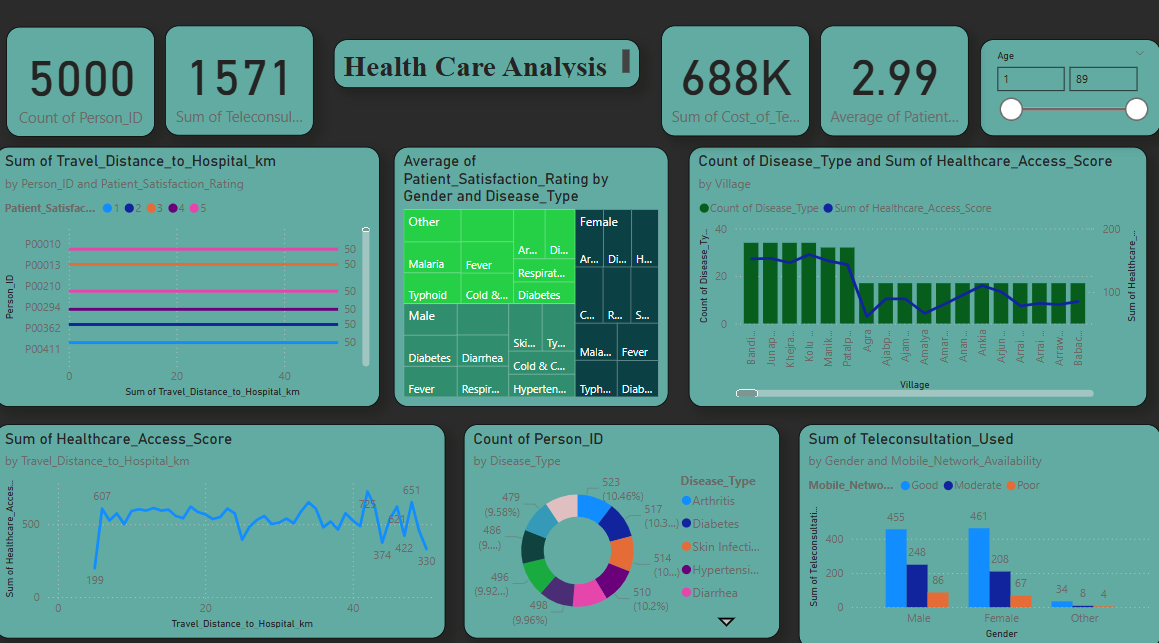

The dashboard page shown, as its layout file describes it:
{"tool":"powerbi","page":{"name":"Page 1","canvas":[1280,720],"ordinal":0},"visuals":[{"type":"card","fields":{"Values":["CountNonNull(telemedicine_data_with_followups.Person_ID)"]},"box":[30.7,0,187.7,108],"z":0},{"type":"clusteredColumnChart","fields":{"Category":["telemedicine_data_with_followups.Gender"],"Y":["Sum(telemedicine_data_with_followups.Teleconsultation_Used)"],"Series":["telemedicine_data_with_followups.Mobile_Network_Availability"]},"box":[0,120.2,441.7,370.6],"z":1000},{"type":"donutChart","fields":{"Category":["telemedicine_data_with_followups.Disease_Type"],"Y":["CountNonNull(telemedicine_data_with_followups.Person_ID)"]},"box":[736.2,455.2,543.6,265],"z":2000},{"type":"lineChart","fields":{"Category":["telemedicine_data_with_followups.Travel_Distance_to_Hospital_km"],"Y":["Sum(telemedicine_data_with_followups.Healthcare_Access_Score)"]},"box":[0,499.4,726.4,220.9],"z":3000},{"type":"lineClusteredColumnComboChart","fields":{"Category":["telemedicine_data_with_followups.Village"],"Y":["CountNonNull(telemedicine_data_with_followups.Disease_Type)"]},"box":[736.2,120.2,543.6,315.3],"z":4000},{"type":"slicer","fields":{"Values":["telemedicine_data_with_followups.Age"]},"box":[920.3,1.2,326.4,106.7],"z":5000},{"type":"card","fields":{"Values":["Sum(telemedicine_data_with_followups.Cost_of_Teleconsultation)"]},"box":[468.7,0,187.7,108],"z":6000},{"type":"card","fields":{"Values":["Sum(telemedicine_data_with_followups.Teleconsultation_Used)"]},"box":[249.1,0,189,108],"z":7000},{"type":"card","fields":{"Values":["Avg(telemedicine_data_with_followups.Patient_Satisfaction_Rating)"]},"box":[687.1,1.2,187.7,108],"z":8000},{"type":"textbox","box":[452.8,109.2,273.6,47.9],"z":9000},{"type":"treemap","fields":{"Details":["telemedicine_data_with_followups.Disease_Type"],"Values":["Avg(telemedicine_data_with_followups.Patient_Satisfaction_Rating)"],"Group":["telemedicine_data_with_followups.Gender"]},"box":[461.4,157.1,257.7,321.5],"z":10000}]}

Visuals, with their boxes in screenshot pixels (x1, y1, x2, y2), scaled from the page's 1280x720 canvas onto the 1159x643 screenshot:
card - CountNonNull(telemedicine_data_with_followups.Person_ID): BBox(28, 0, 198, 96)
clusteredColumnChart - telemedicine_data_with_followups.Gender x Sum(telemedicine_data_with_followups.Teleconsultation_Used): BBox(0, 107, 400, 438)
donutChart - telemedicine_data_with_followups.Disease_Type x CountNonNull(telemedicine_data_with_followups.Person_ID): BBox(667, 407, 1158, 642)
lineChart - telemedicine_data_with_followups.Travel_Distance_to_Hospital_km x Sum(telemedicine_data_with_followups.Healthcare_Access_Score): BBox(0, 446, 658, 642)
lineClusteredColumnComboChart - telemedicine_data_with_followups.Village x CountNonNull(telemedicine_data_with_followups.Disease_Type): BBox(667, 107, 1158, 389)
slicer - telemedicine_data_with_followups.Age: BBox(833, 1, 1129, 96)
card - Sum(telemedicine_data_with_followups.Cost_of_Teleconsultation): BBox(424, 0, 594, 96)
card - Sum(telemedicine_data_with_followups.Teleconsultation_Used): BBox(226, 0, 397, 96)
card - Avg(telemedicine_data_with_followups.Patient_Satisfaction_Rating): BBox(622, 1, 792, 98)
textbox: BBox(410, 98, 658, 140)
treemap - telemedicine_data_with_followups.Disease_Type x Avg(telemedicine_data_with_followups.Patient_Satisfaction_Rating): BBox(418, 140, 651, 427)
